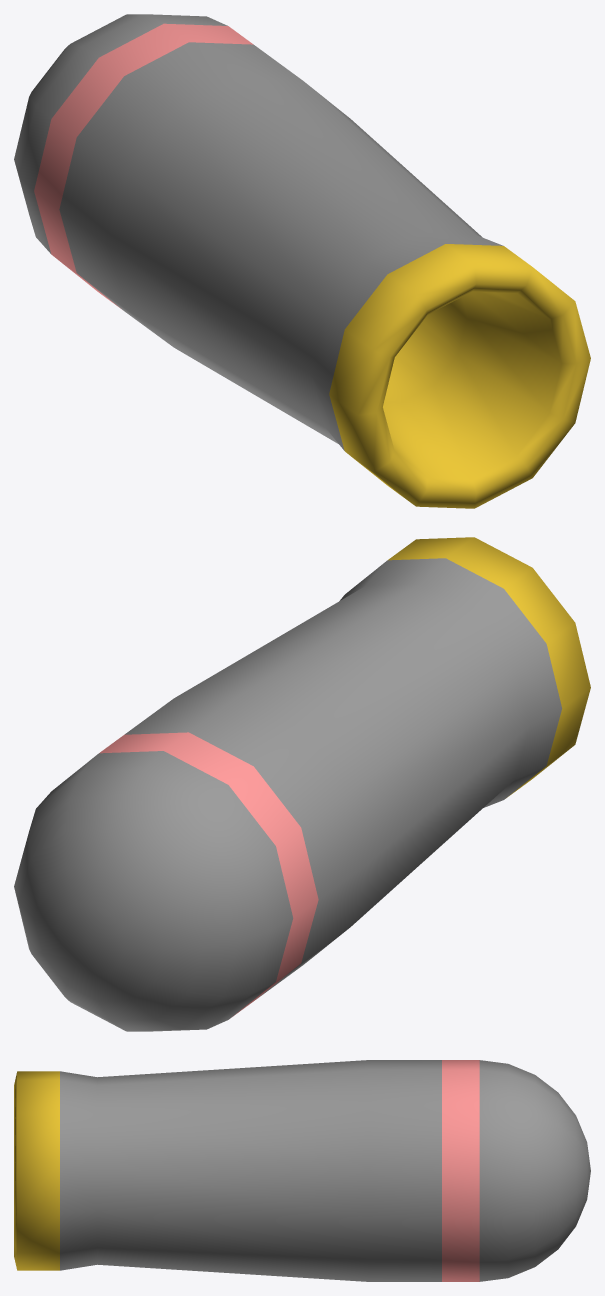
The model's file is cannon.FBX.
The picture shows the model from 3 angles, top to bottom: view 1: azimuth 30°, elevation 25°; view 2: azimuth 150°, elevation 25°; view 3: azimuth 270°, elevation 25°; orthographic projection. The views are drawn at different scales.
Parts seen in each view (by area): view 1: Capsule001; view 2: Capsule001; view 3: Capsule001.
Part boxes in pixels (bbox=[...]): Capsule001: bbox=[14, 14, 590, 508]; Capsule001: bbox=[14, 537, 590, 1031]; Capsule001: bbox=[14, 1060, 590, 1281].
Size of the model in its own units: 35.66 by 35.66 by 92.38.
